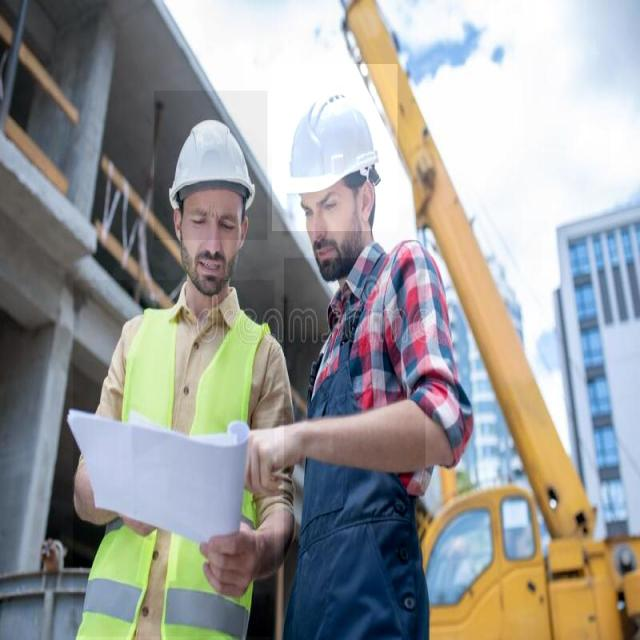Helmet: (284, 258, 426, 640), (272, 64, 398, 231), (154, 91, 268, 240)
Safety Vest: (73, 280, 275, 636)
